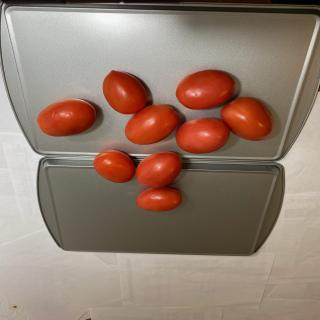Tomato: (176, 69, 236, 110), (220, 97, 275, 141), (37, 98, 96, 137), (124, 104, 180, 145), (175, 117, 230, 154), (102, 70, 148, 114), (135, 151, 183, 188), (93, 149, 135, 183), (136, 186, 182, 212)
